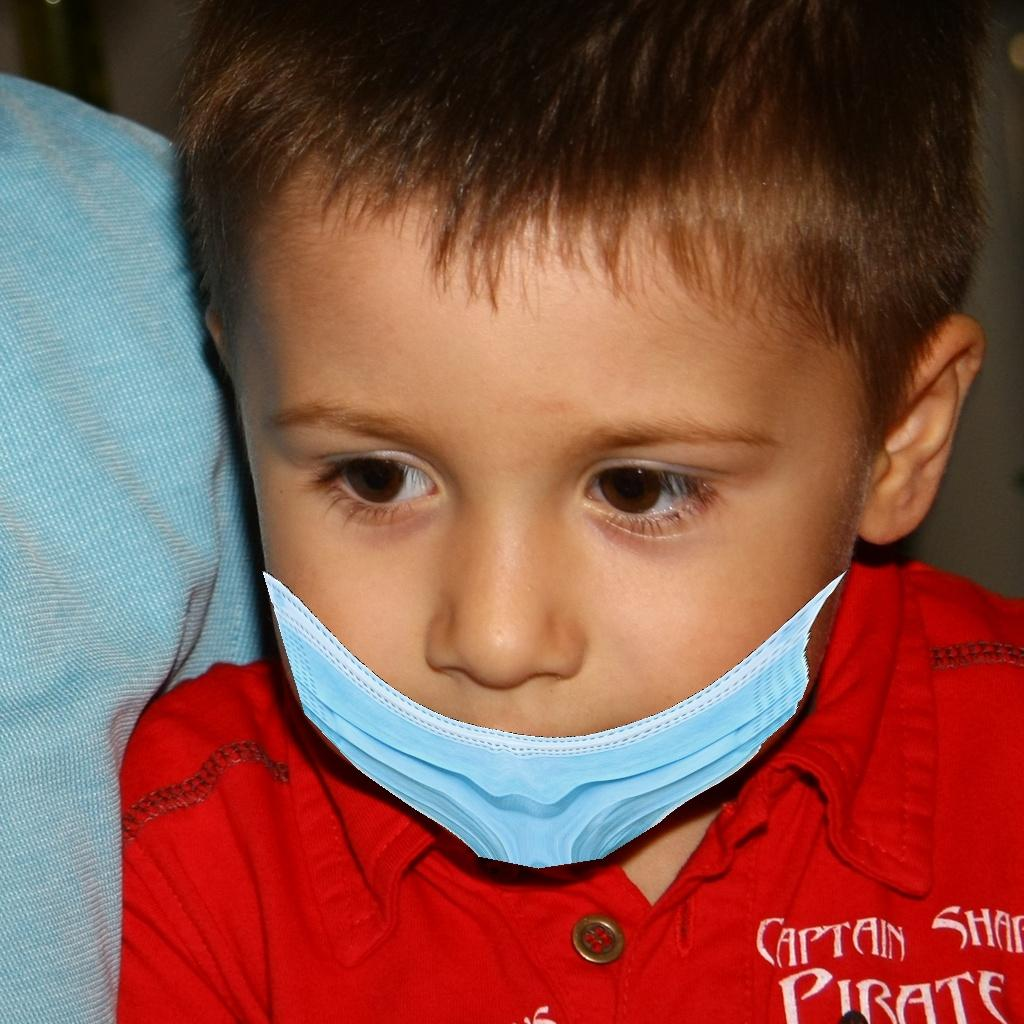Máscara Incorreta: (226, 230, 818, 851)
